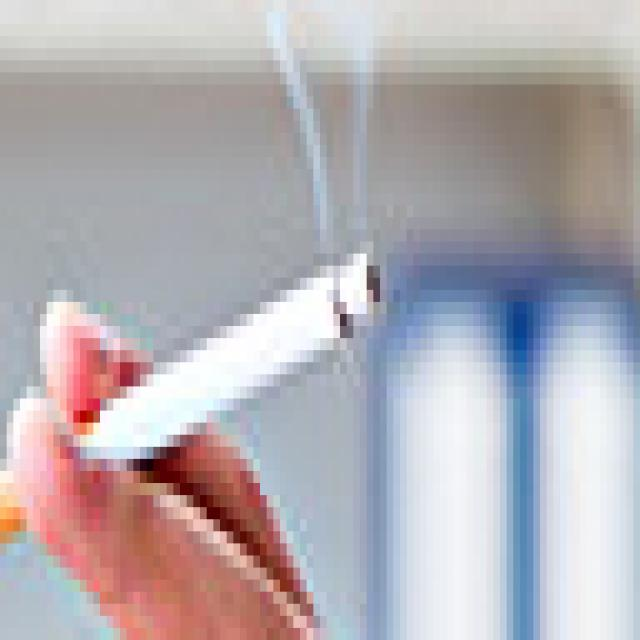cigarette: (113, 248, 389, 454)
